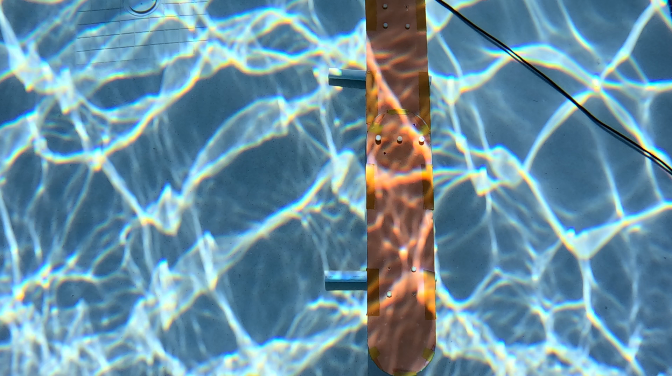pathmarker: (366, 0, 435, 375)
